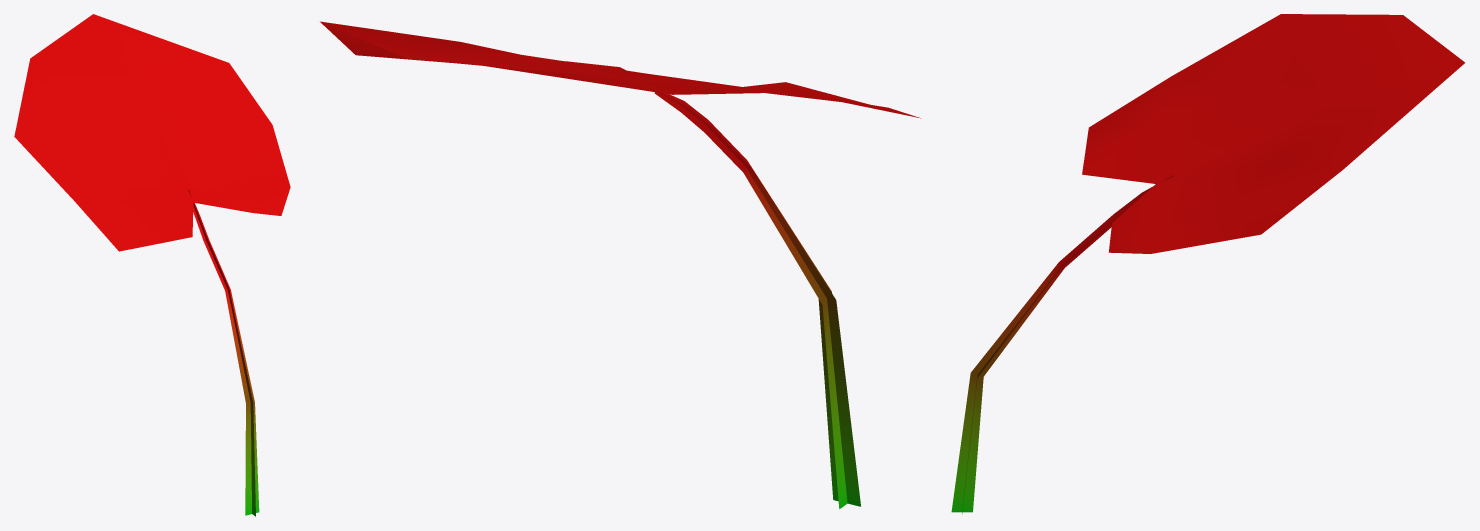
File: Coltsfoot_LOD3_Var14_xbtkdfvqx.fbx
3 renders of one model, left to right at view 1: azimuth 30°, elevation 25°; view 2: azimuth 150°, elevation 25°; view 3: azimuth 270°, elevation 25°, orthographic. The views are drawn at different scales.
Visible parts, largest first — view 1: _nrhp_Var14_LOD3; view 2: _nrhp_Var14_LOD3; view 3: _nrhp_Var14_LOD3.
Part boxes in pixels (x1,y1,x2,y2): _nrhp_Var14_LOD3: [14, 14, 290, 516]; _nrhp_Var14_LOD3: [320, 21, 920, 509]; _nrhp_Var14_LOD3: [951, 14, 1464, 514].
Bounding box in the file's own units: 17.75 × 23.92 × 23.73.
